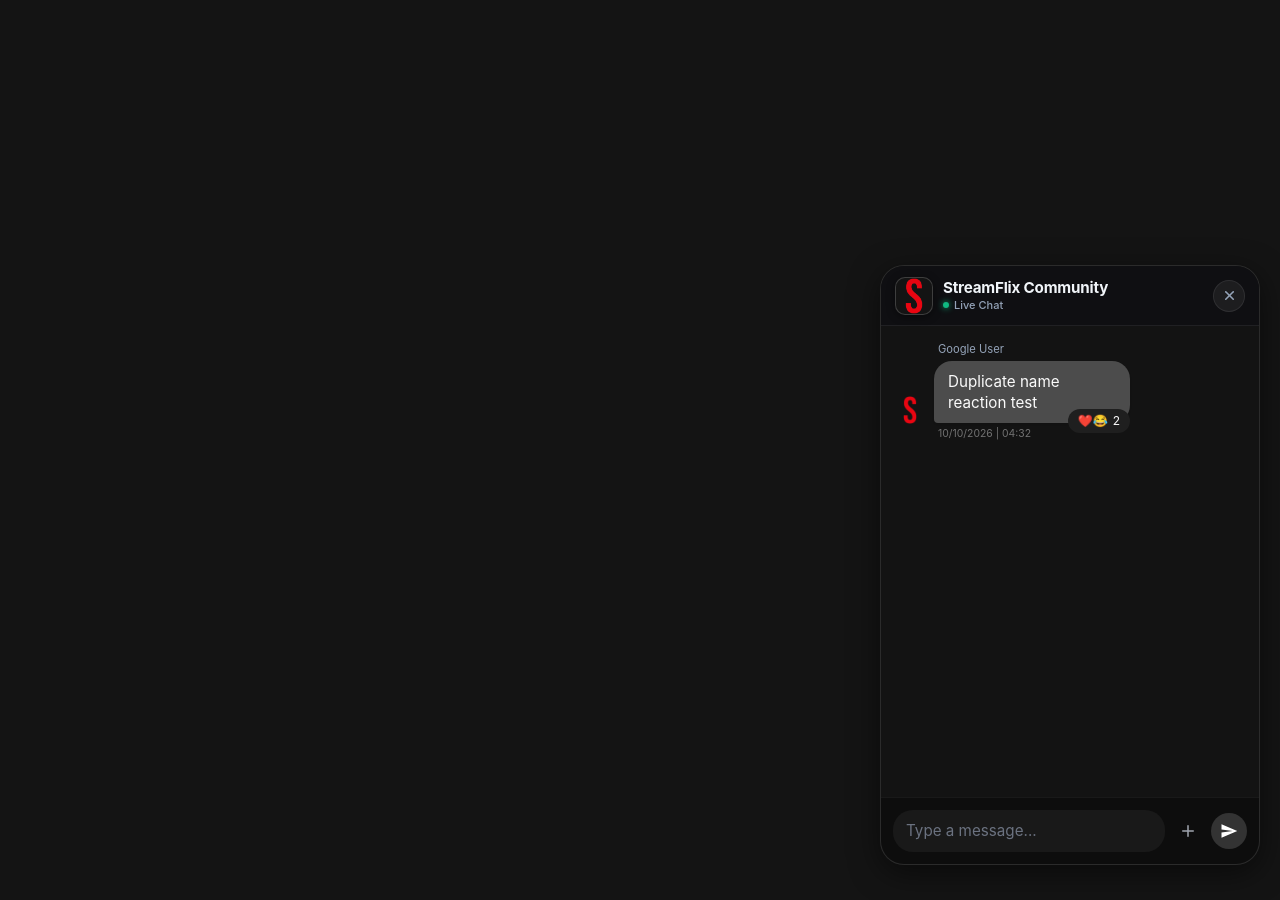
Test: GlobalChat v2 Reactions Rendering › renders duplicate display names correctly for different reactor UIDs
The width and height of the screenshot is (1280, 900).
Click the element with class "gc-reaction-badge": (1099,421) [1068,409,1130,434]
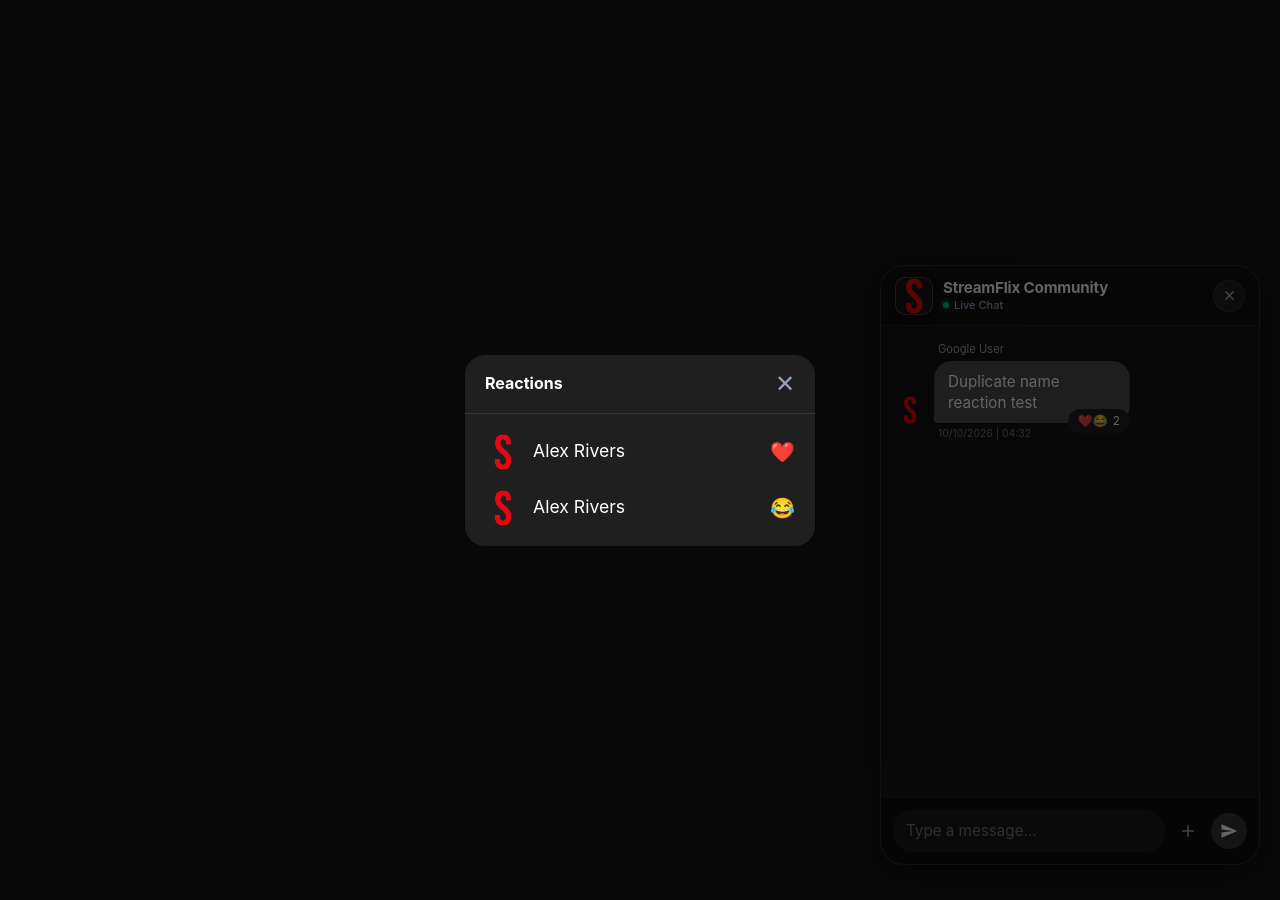
Expected: the number of elements with class "gc-reaction-item" is 2, [485,424,795,480]; [485,480,795,536]
Expected: the element with class "gc-reaction-item" shows "Alex Rivers", [533,440,625,461]
